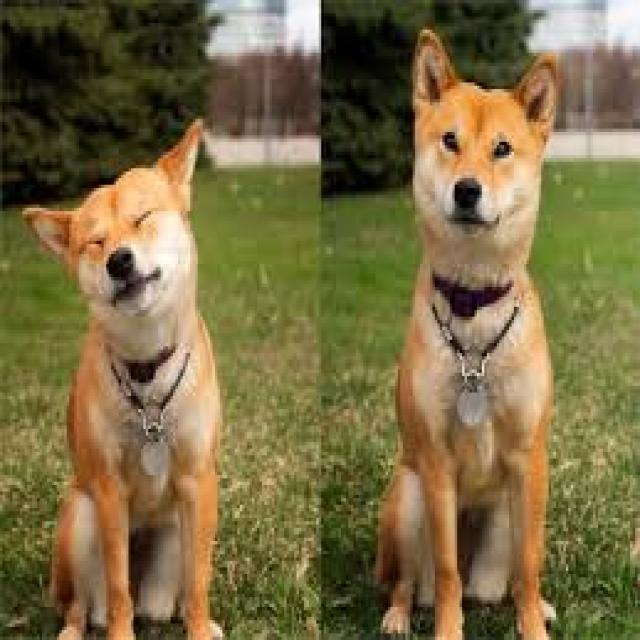Shiba-Inu: (377, 28, 561, 640), (24, 119, 227, 640)
